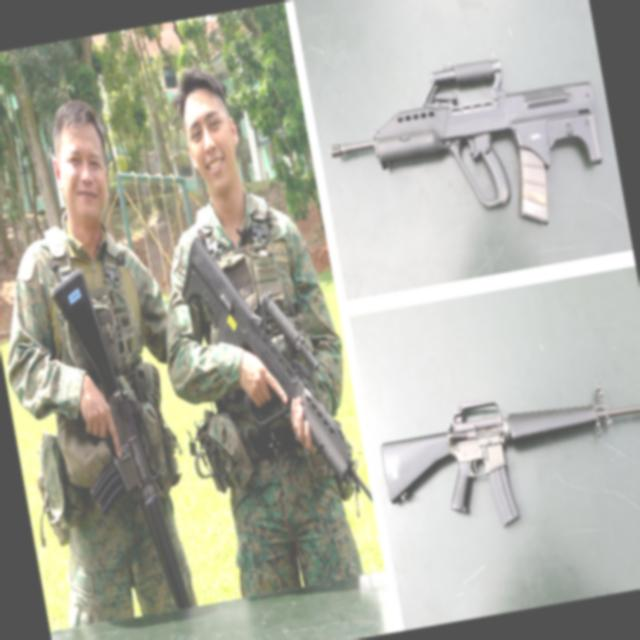m16: (359, 319, 640, 598)
